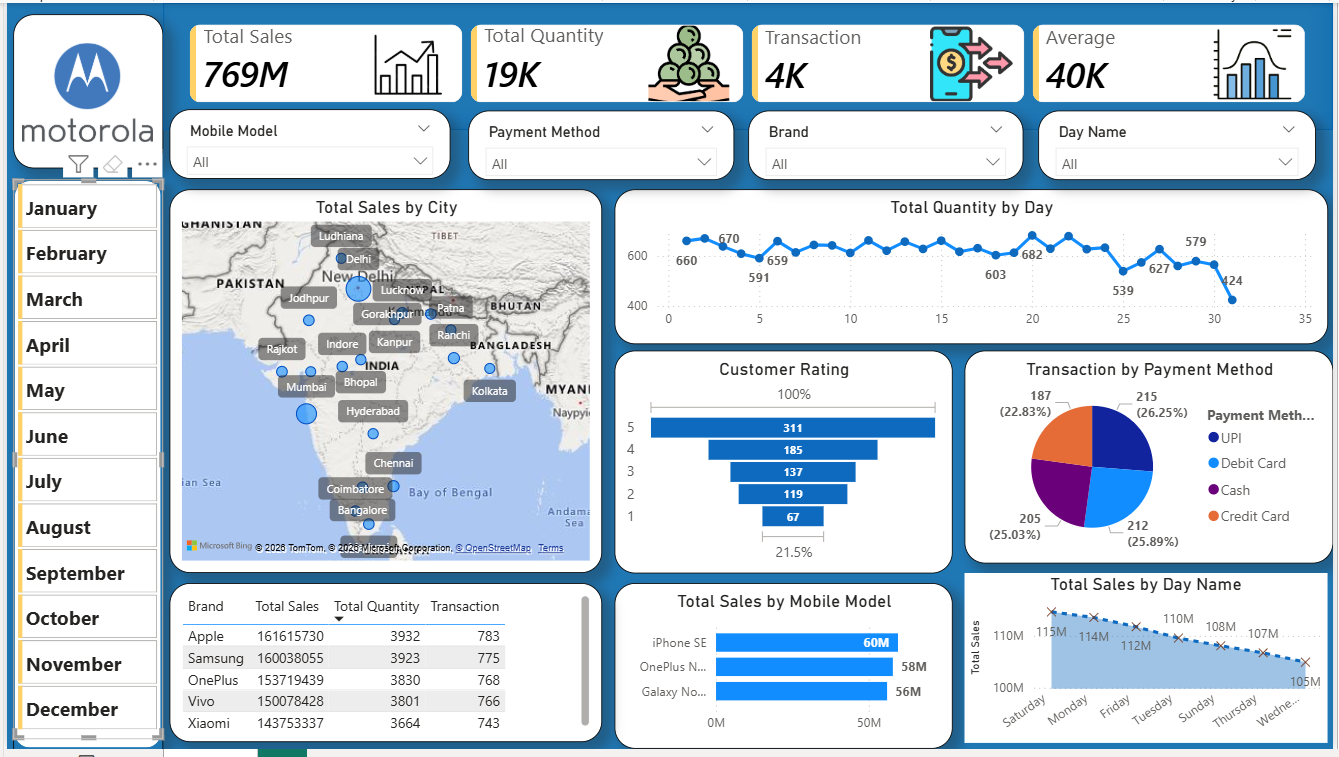

Layout of this report page (visuals, bound fields, positions):
{"tool":"powerbi","page":{"name":"Page 1","canvas":[1280,720],"ordinal":0},"visuals":[{"type":"shape","box":[5.6,11.1,144.7,148.9],"z":0},{"type":"image","box":[13.9,15.3,126.6,141.9],"z":1000},{"type":"shape","box":[5.6,169.7,144.7,551],"z":2000},{"type":"advancedSlicerVisual","fields":{"Values":["Sales_Data.Date.Variation.Date Hierarchy.Month"]},"box":[5.6,169.7,144.7,541.2],"z":3000},{"type":"cardVisual","fields":{"Data":["Sales_Data.Total Sales","Sales_Data.Total Quantity","Sales_Data.Transaction","Sales_Data.Average"]},"box":[151.1,0,1128.9,122.6],"z":4000},{"type":"map","fields":{"Category":["Sales_Data.City"],"Size":["Sales_Data.Total Sales"]},"box":[156.8,179.6,417.6,370.6],"z":5000},{"type":"lineChart","fields":{"Category":["Sales_Data.Date.Variation.Date Hierarchy.Month","Sales_Data.Date.Variation.Date Hierarchy.Day"],"Y":["Sales_Data.Total Quantity"]},"box":[585.8,179.6,688.5,149.7],"z":6000},{"type":"clusteredBarChart","fields":{"Category":["Sales_Data.Mobile Model"],"Y":["Sales_Data.Total Sales"]},"box":[585.8,560.2,326.4,159.6],"z":7000},{"type":"pieChart","fields":{"Category":["Sales_Data.Payment Method"],"Y":["Sales_Data.Transaction"]},"box":[923.7,335,356.3,205.3],"z":8000},{"type":"funnel","title":"Customer Rating","fields":{"Category":["Sales_Data.Customer Ratings"],"Y":["CountNonNull(Sales_Data.Customer Ratings)"]},"box":[585.8,335,326.4,215.2],"z":8001},{"type":"areaChart","fields":{"Category":["Sales_Data.Day Name"],"Y":["Sales_Data.Total Sales"]},"box":[923.7,550.2,350.6,163.9],"z":8002},{"type":"tableEx","fields":{"Values":["Sales_Data.Brand","Sales_Data.Total Sales","Sales_Data.Total Quantity","Sales_Data.Transaction"]},"box":[156.8,560.2,417.6,153.9],"z":8003},{"type":"slicer","fields":{"Values":["Sales_Data.Mobile Model"]},"box":[156.8,102.5,271.4,67.6],"z":8004},{"type":"slicer","fields":{"Values":["Sales_Data.Payment Method"]},"box":[445.2,103.8,257,67.6],"z":8005},{"type":"slicer","fields":{"Values":["Sales_Data.Brand"]},"box":[715.4,103.8,265.4,67.6],"z":8006},{"type":"slicer","fields":{"Values":["Sales_Data.Day Name"]},"box":[995.3,103.8,267.8,67.6],"z":8007}]}

Visuals, with their boxes in screenshot pixels (x1, y1, x2, y2), scaled from the page's 1280x720 canvas onto the 1339x757 screenshot:
shape: x1=6 y1=12 x2=157 y2=168
image: x1=15 y1=16 x2=147 y2=165
shape: x1=6 y1=178 x2=157 y2=756
advancedSlicerVisual - Sales_Data.Date.Variation.Date Hierarchy.Month: x1=6 y1=178 x2=157 y2=747
cardVisual - Sales_Data.Total Sales x Sales_Data.Total Quantity: x1=158 y1=0 x2=1338 y2=129
map - Sales_Data.City x Sales_Data.Total Sales: x1=164 y1=189 x2=601 y2=578
lineChart - Sales_Data.Date.Variation.Date Hierarchy.Month x Sales_Data.Date.Variation.Date Hierarchy.Day: x1=613 y1=189 x2=1333 y2=346
clusteredBarChart - Sales_Data.Mobile Model x Sales_Data.Total Sales: x1=613 y1=589 x2=954 y2=756
pieChart - Sales_Data.Payment Method x Sales_Data.Transaction: x1=966 y1=352 x2=1338 y2=568
"Customer Rating" funnel: x1=613 y1=352 x2=954 y2=578
areaChart - Sales_Data.Day Name x Sales_Data.Total Sales: x1=966 y1=578 x2=1333 y2=751
tableEx - Sales_Data.Brand x Sales_Data.Total Sales: x1=164 y1=589 x2=601 y2=751
slicer - Sales_Data.Mobile Model: x1=164 y1=108 x2=448 y2=179
slicer - Sales_Data.Payment Method: x1=466 y1=109 x2=735 y2=180
slicer - Sales_Data.Brand: x1=748 y1=109 x2=1026 y2=180
slicer - Sales_Data.Day Name: x1=1041 y1=109 x2=1321 y2=180
